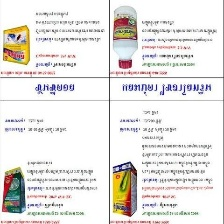book: (0, 23, 31, 67)
carton: (110, 157, 139, 218), (0, 165, 26, 216)
insecticide: (110, 4, 139, 70)
